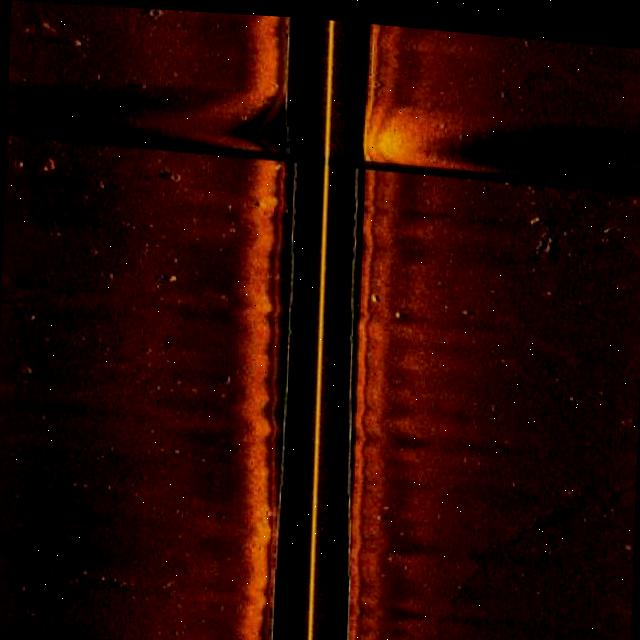mine: (389, 301, 408, 319), (364, 285, 382, 299)
other: (158, 166, 186, 185)
